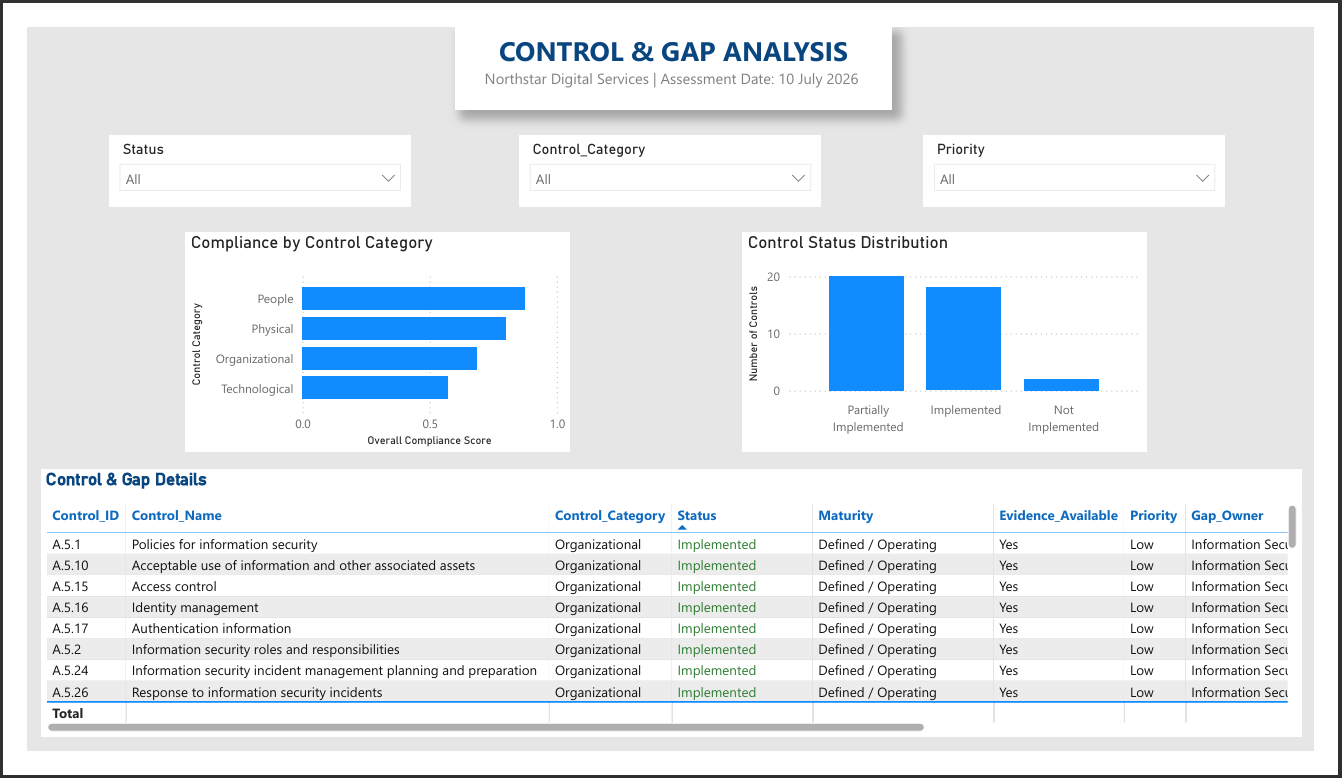

What the dashboard file says about the page in this screenshot:
{"tool":"powerbi","page":{"name":"Control & Gap Analysis","canvas":[1280,720],"ordinal":1},"visuals":[{"type":"textbox","box":[426,0,434,82],"z":0},{"type":"slicer","fields":{"Values":["GapAssessment.Status"]},"box":[82,108,300,71],"z":1000},{"type":"slicer","fields":{"Values":["GapAssessment.Control_Category"]},"box":[490,108,300,71],"z":2000},{"type":"slicer","fields":{"Values":["GapAssessment.Priority"]},"box":[892,108,300,71],"z":3000},{"type":"clusteredBarChart","title":"Compliance by Control Category","fields":{"Category":["GapAssessment.Control_Category"],"Y":["GapAssessment.Overall Compliance Score"]},"box":[158,204,382,218],"z":4000},{"type":"clusteredColumnChart","title":"Control Status Distribution","fields":{"Category":["GapAssessment.Status"],"Y":["Count(GapAssessment.Control_ID)"]},"box":[712,204,402,218],"z":5000},{"type":"tableEx","title":"Control & Gap Details","fields":{"Values":["GapAssessment.Control_ID","GapAssessment.Control_Name","GapAssessment.Control_Category","GapAssessment.Status","GapAssessment.Maturity","GapAssessment.Evidence_Available","GapAssessment.Priority","GapAssessment.Gap_Owner","GapAssessment.Gap_Description"]},"box":[14,440,1254,266],"z":6000}]}

Visuals, with their boxes in screenshot pixels (x1, y1, x2, y2), scaled from the page's 1280x720 canvas onto the 1342x778 screenshot:
textbox: 447/0/902/89
slicer - GapAssessment.Status: 86/117/401/193
slicer - GapAssessment.Control_Category: 514/117/828/193
slicer - GapAssessment.Priority: 935/117/1250/193
"Compliance by Control Category" clusteredBarChart: 166/220/566/456
"Control Status Distribution" clusteredColumnChart: 746/220/1168/456
"Control & Gap Details" tableEx: 15/475/1329/763
